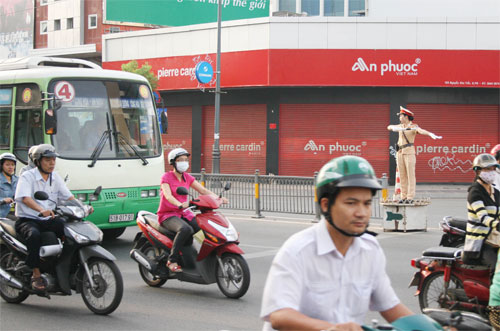police: (385, 104, 437, 205)
